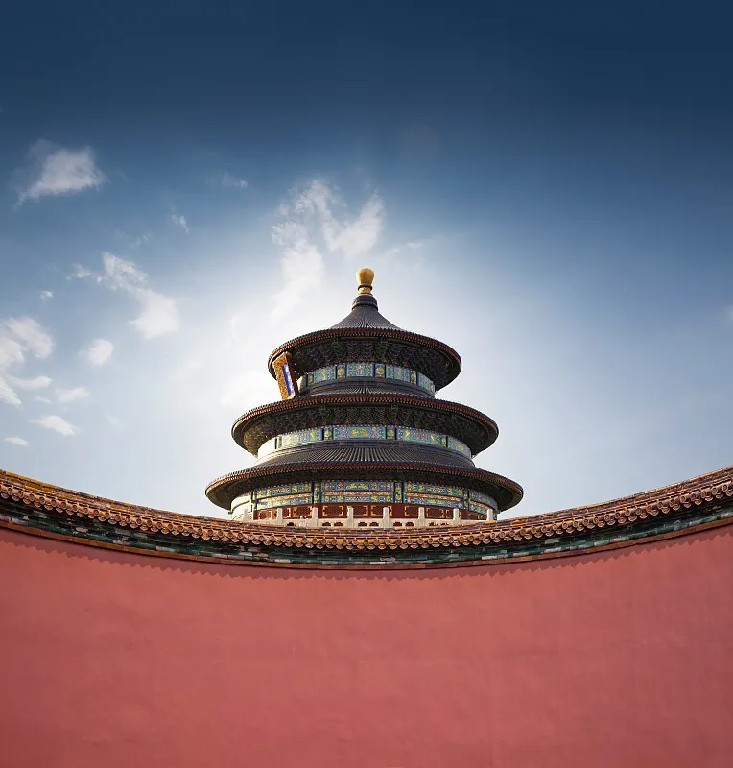Heaven: (205, 269, 522, 529)
